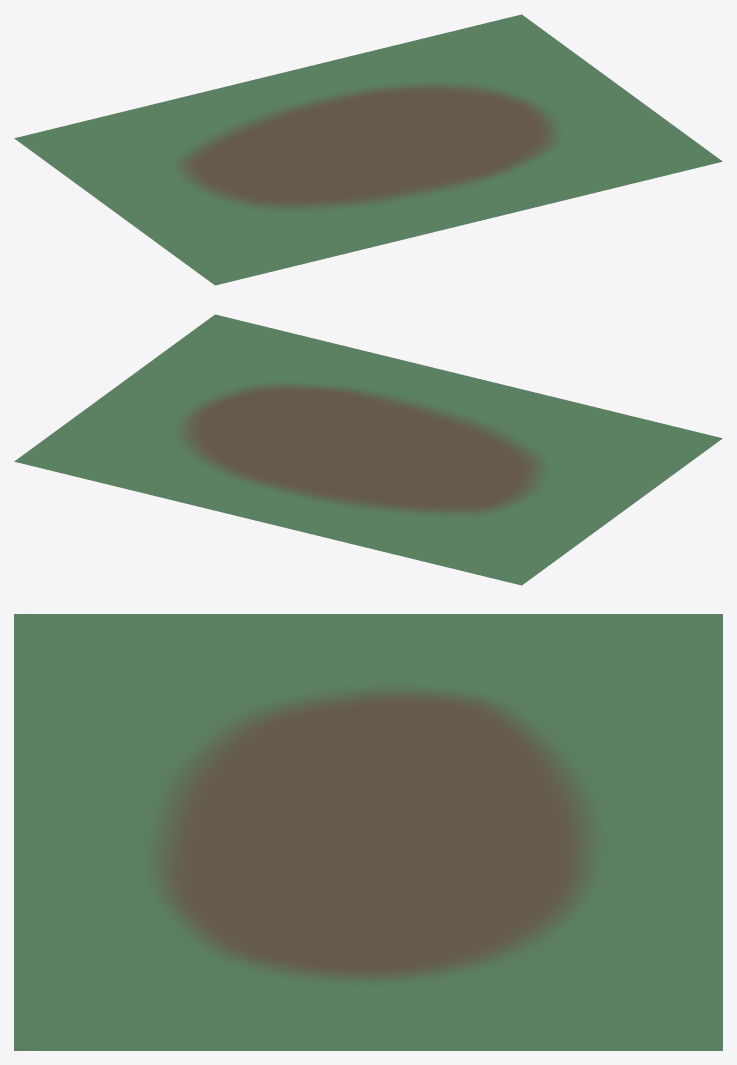
The model's file is PastopLANO.fbx.
3 renders of one model, top to bottom at view 1: azimuth 30°, elevation 25°; view 2: azimuth 150°, elevation 25°; view 3: azimuth 270°, elevation 25°, orthographic. The views are drawn at different scales.
Visible parts, largest first — view 1: Plano; view 2: Plano; view 3: Plano.
Boxes of the visible parts, <box> form: Plano: <box>14,14,722,285</box>; Plano: <box>14,314,722,585</box>; Plano: <box>14,614,722,1050</box>.
Bounding box in the file's own units: 403 × 4.5e-05 × 276.
